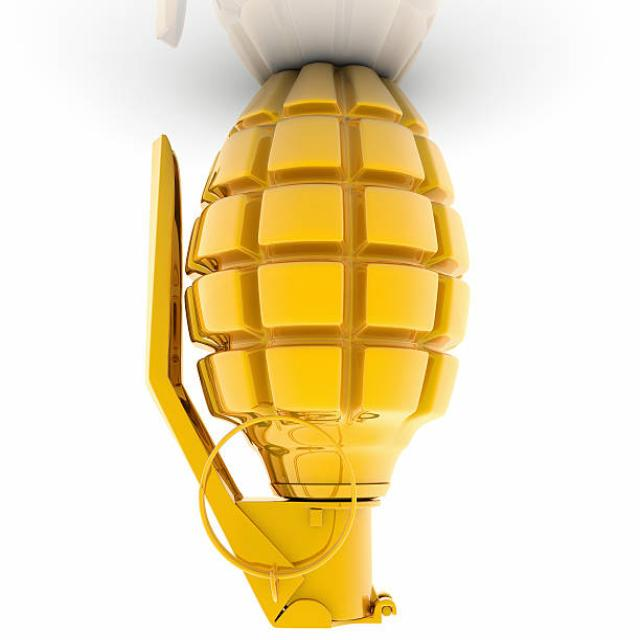grenade: (127, 54, 478, 636)
